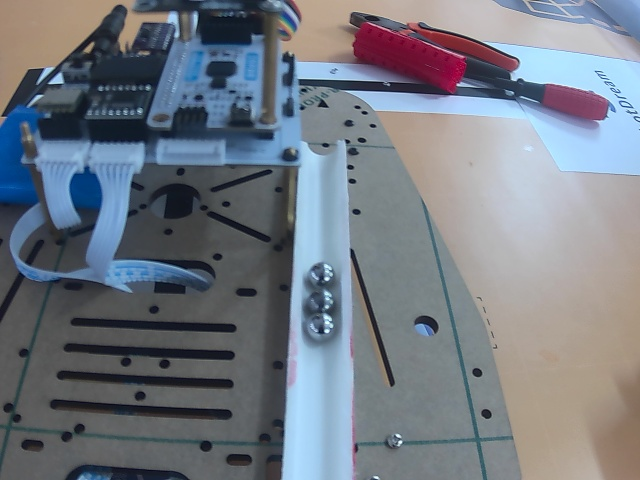steelball: (305, 313, 334, 340), (308, 262, 335, 288), (307, 290, 334, 312)
